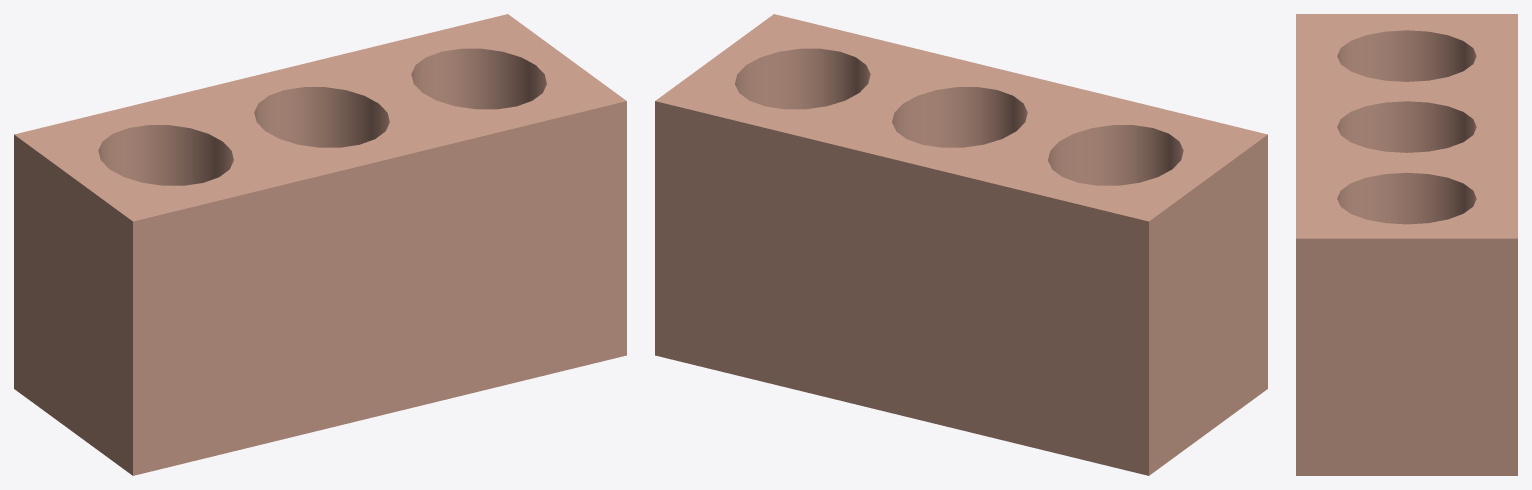
Rendered from Brick.fbx.
The picture shows the model from 3 angles, left to right: view 1: azimuth 30°, elevation 25°; view 2: azimuth 150°, elevation 25°; view 3: azimuth 270°, elevation 25°; orthographic projection. The views are drawn at different scales.
Visible parts, largest first — view 1: pCube11; view 2: pCube11; view 3: pCube11.
Boxes of the visible parts, bbox=[...] form: pCube11: bbox=[14, 14, 626, 475]; pCube11: bbox=[655, 14, 1267, 475]; pCube11: bbox=[1296, 14, 1517, 475].
Bounding box in the file's own units: 0.7111 × 0.35 × 0.2967.
